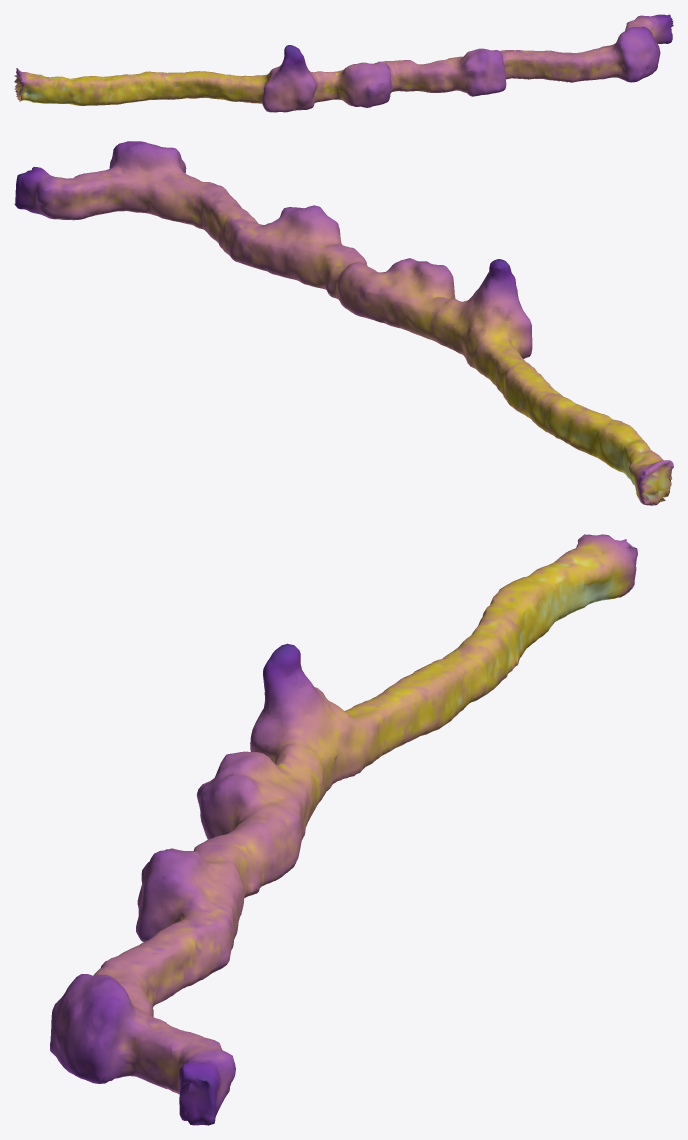
File: drift_charge.gltf
The picture shows the model from 3 angles, top to bottom: view 1: azimuth 30°, elevation 25°; view 2: azimuth 150°, elevation 25°; view 3: azimuth 270°, elevation 25°; orthographic projection. The views are drawn at different scales.
Visible parts, largest first — view 1: Renderer Node; view 2: Renderer Node; view 3: Renderer Node.
Part boxes in pixels (x1,y1,x2,y2): Renderer Node: (14,14,673,112); Renderer Node: (14,141,673,505); Renderer Node: (50,534,637,1125).
Bounding box in the file's own units: 46.83 × 5.32 × 21.36.
